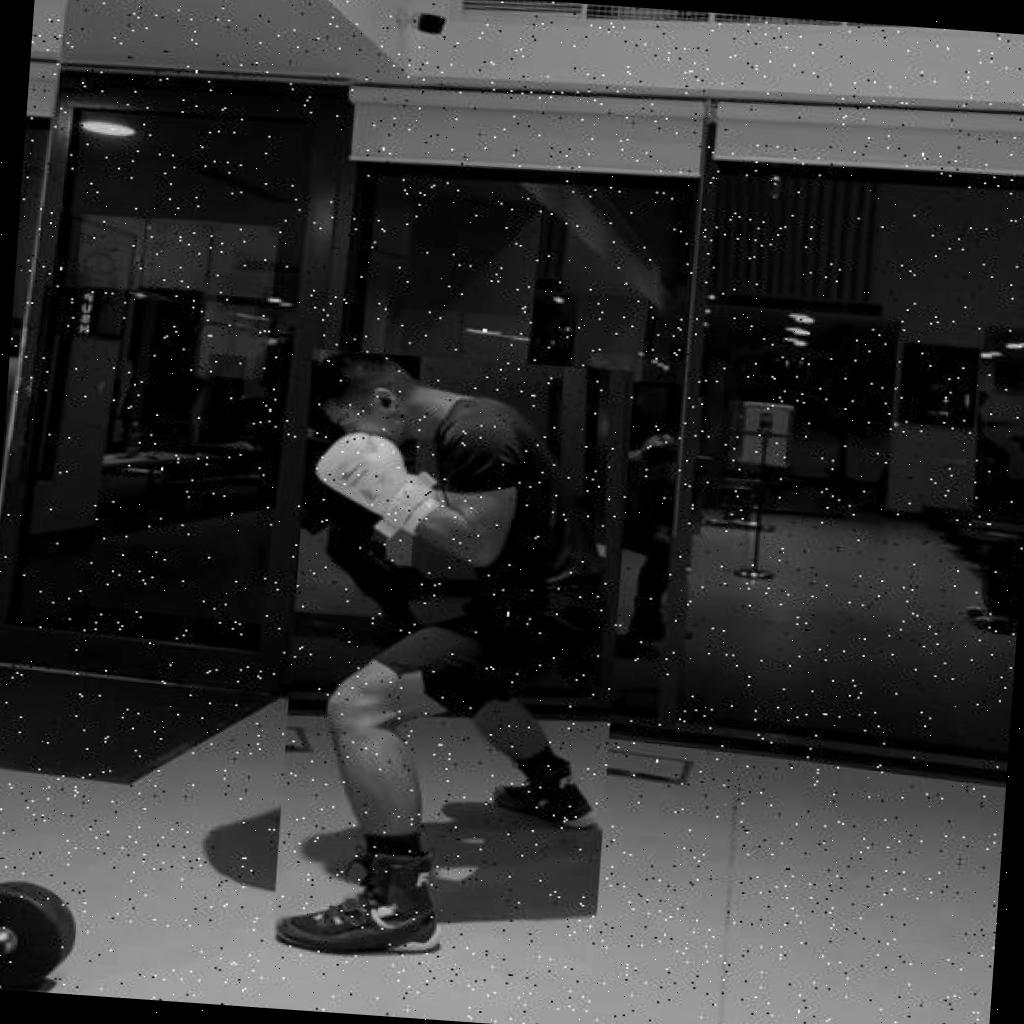no punch: (272, 349, 634, 975)
